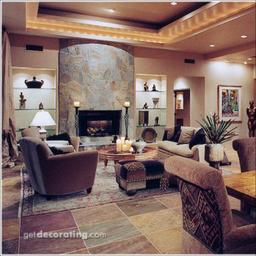Matera: (201, 112, 236, 164)
